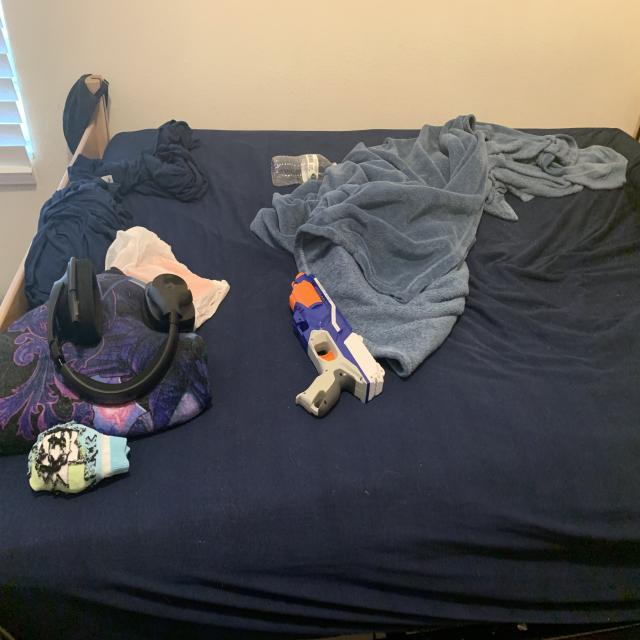nerf-maverik: (288, 263, 390, 427)
